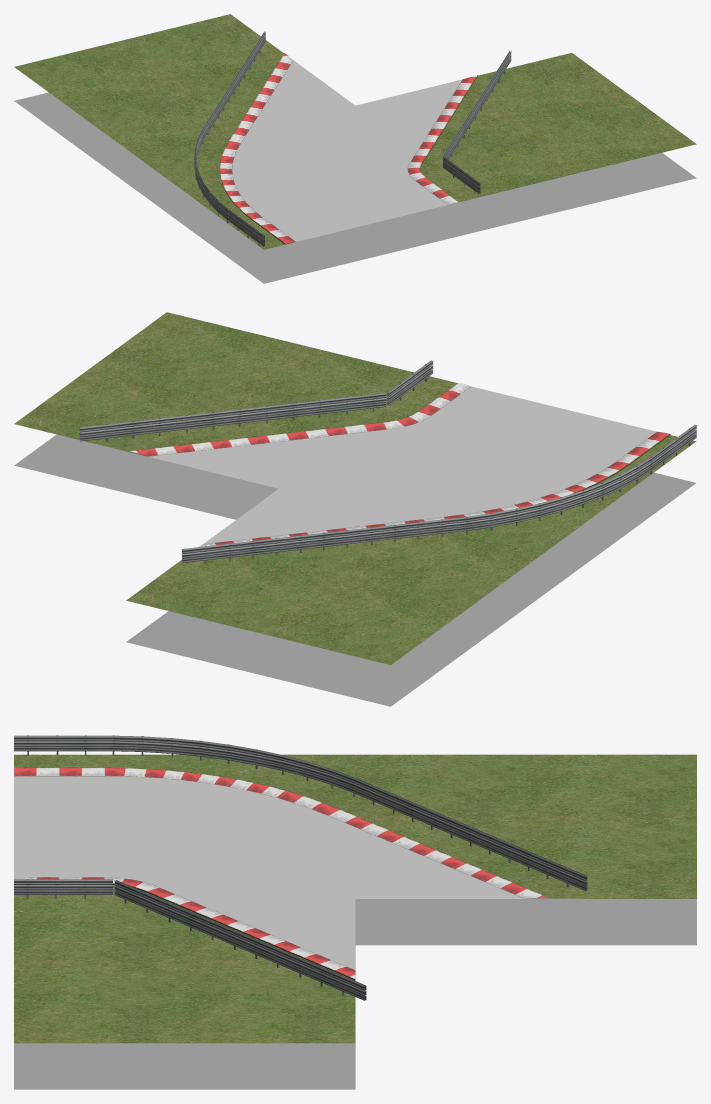
File: Track_Curve_To_45Degree.fbx
3 views of the same model, one above another, from view 1: azimuth 30°, elevation 25°; view 2: azimuth 150°, elevation 25°; view 3: azimuth 270°, elevation 25° (orthographic). The views are drawn at different scales.
Parts seen in each view (by area): view 1: Grass, Road, Snap_Plane_Invisible_1, Snap_Plane_Invisible_2, Snap_Plane_Invisible_3, Curb_A, Rail_A, Curb__B, Rail_B; view 2: Grass, Road, Snap_Plane_Invisible_3, Snap_Plane_Invisible_2, Rail_A, Snap_Plane_Invisible_1, Rail_B, Curb__B, Curb_A; view 3: Grass, Road, Snap_Plane_Invisible_2, Snap_Plane_Invisible_3, Rail_A, Rail_B, Curb_A, Curb__B.
Part boxes in pixels (<box>): Grass: <box>14,14,696,249</box>; Road: <box>232,60,462,241</box>; Snap_Plane_Invisible_1: <box>139,184,479,283</box>; Snap_Plane_Invisible_2: <box>446,153,696,230</box>; Snap_Plane_Invisible_3: <box>14,92,173,192</box>; Curb_A: <box>219,53,295,244</box>; Rail_A: <box>194,31,265,246</box>; Curb__B: <box>407,75,478,204</box>; Rail_B: <box>442,50,511,193</box>; Grass: <box>14,312,696,665</box>; Road: <box>148,386,656,543</box>; Snap_Plane_Invisible_3: <box>126,584,542,706</box>; Snap_Plane_Invisible_2: <box>14,434,278,519</box>; Rail_A: <box>182,424,696,563</box>; Snap_Plane_Invisible_1: <box>501,472,695,594</box>; Rail_B: <box>79,360,433,441</box>; Curb__B: <box>128,383,470,456</box>; Curb_A: <box>198,431,670,547</box>; Grass: <box>14,754,696,1043</box>; Road: <box>14,776,524,969</box>; Snap_Plane_Invisible_2: <box>14,945,355,1089</box>; Snap_Plane_Invisible_3: <box>355,898,696,945</box>; Rail_A: <box>14,735,587,890</box>; Rail_B: <box>14,879,366,1000</box>; Curb_A: <box>14,767,549,898</box>; Curb__B: <box>14,877,355,980</box>.
Size of the model in its own units: 40.03 by 4.24 by 40.
